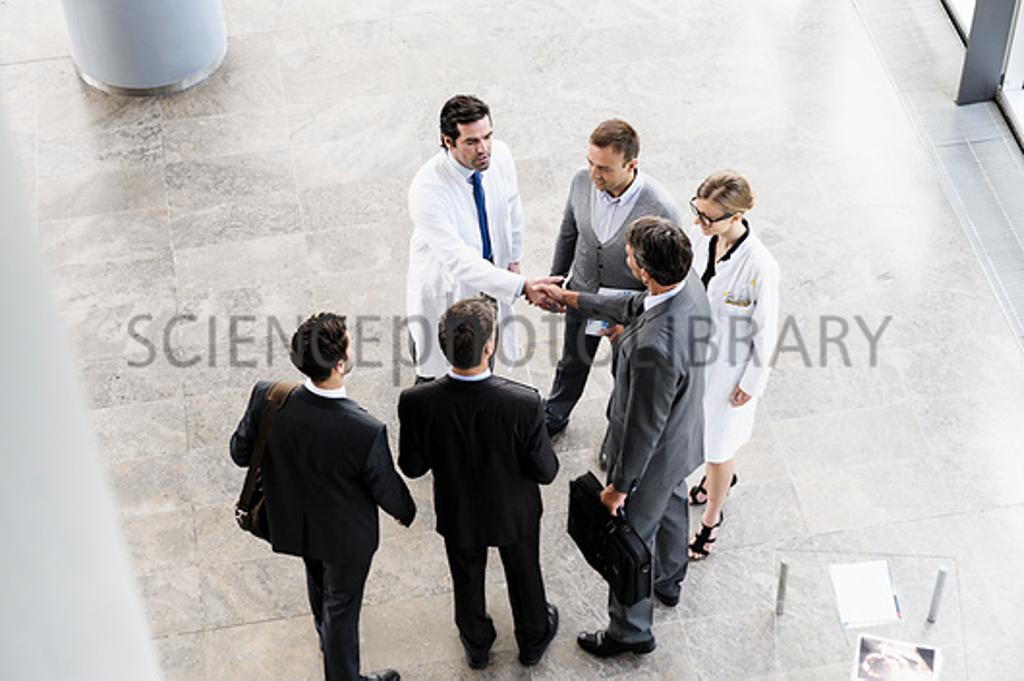face: (454, 123, 492, 169), (587, 149, 626, 190), (694, 201, 730, 235), (625, 246, 651, 282), (333, 338, 354, 374)
